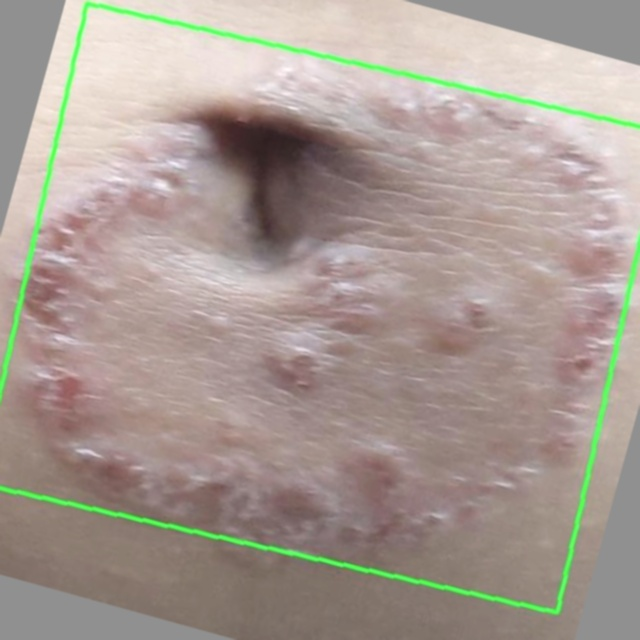Tinea Corporis: (0, 3, 639, 613)
